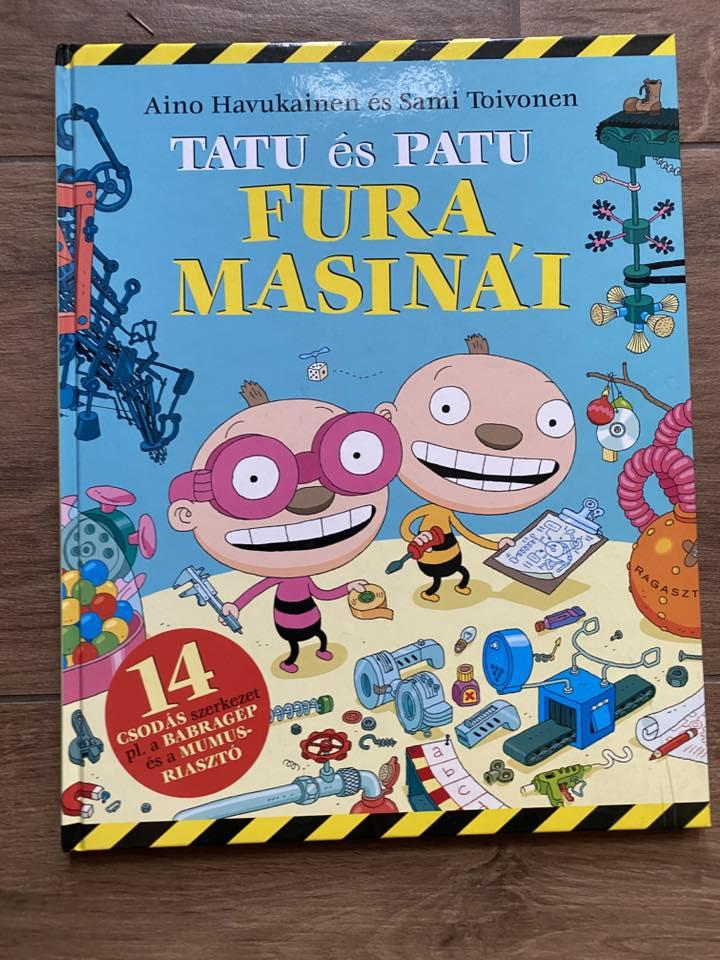comic: (40, 28, 709, 851)
